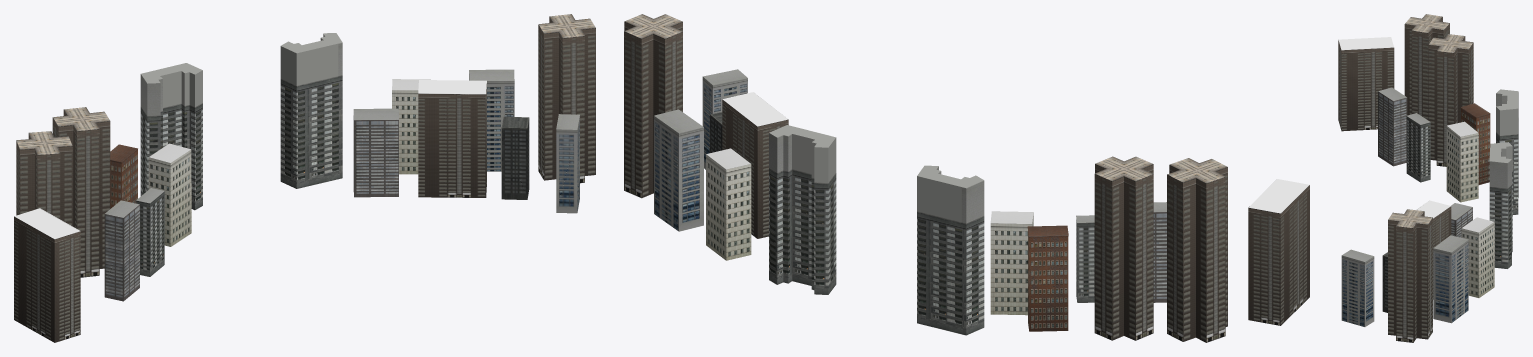
3 views of the same model, side by side, from view 1: azimuth 30°, elevation 25°; view 2: azimuth 150°, elevation 25°; view 3: azimuth 270°, elevation 25° (orthographic). The views are drawn at different scales.
Size of the model in its own units: 325 by 77.3 by 110.
7 materials, 7 textured.
